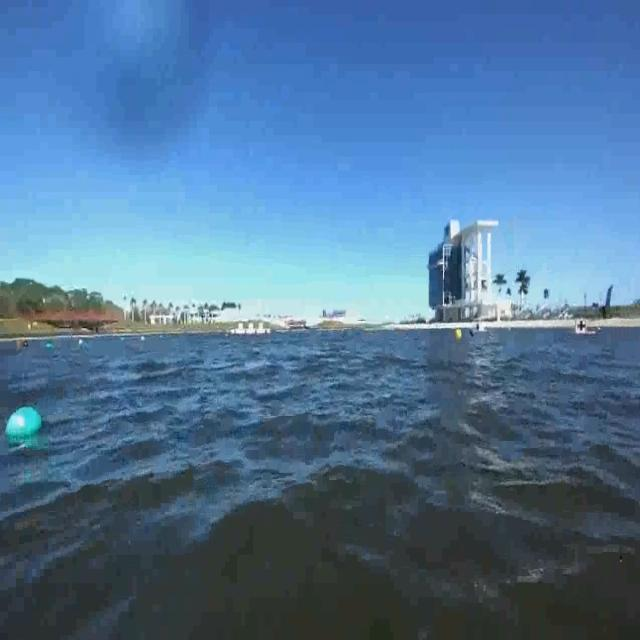green-buoy: (5, 408, 42, 446)
yellow-buoy: (455, 326, 463, 341)
